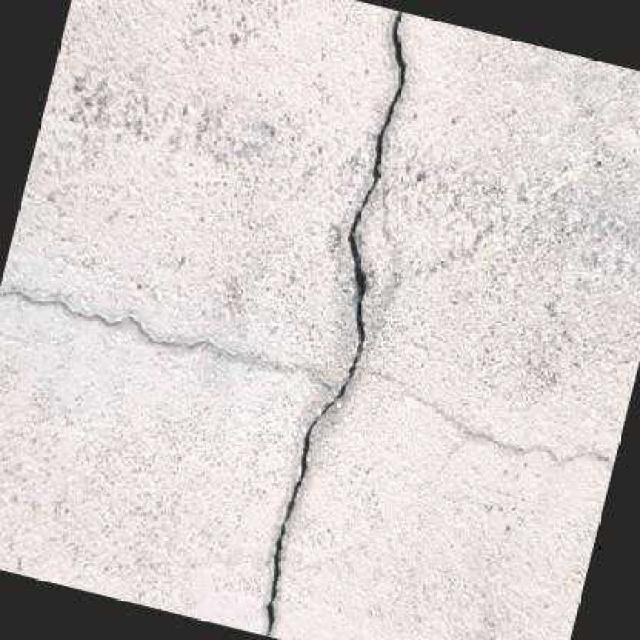D00: (262, 9, 405, 636)
